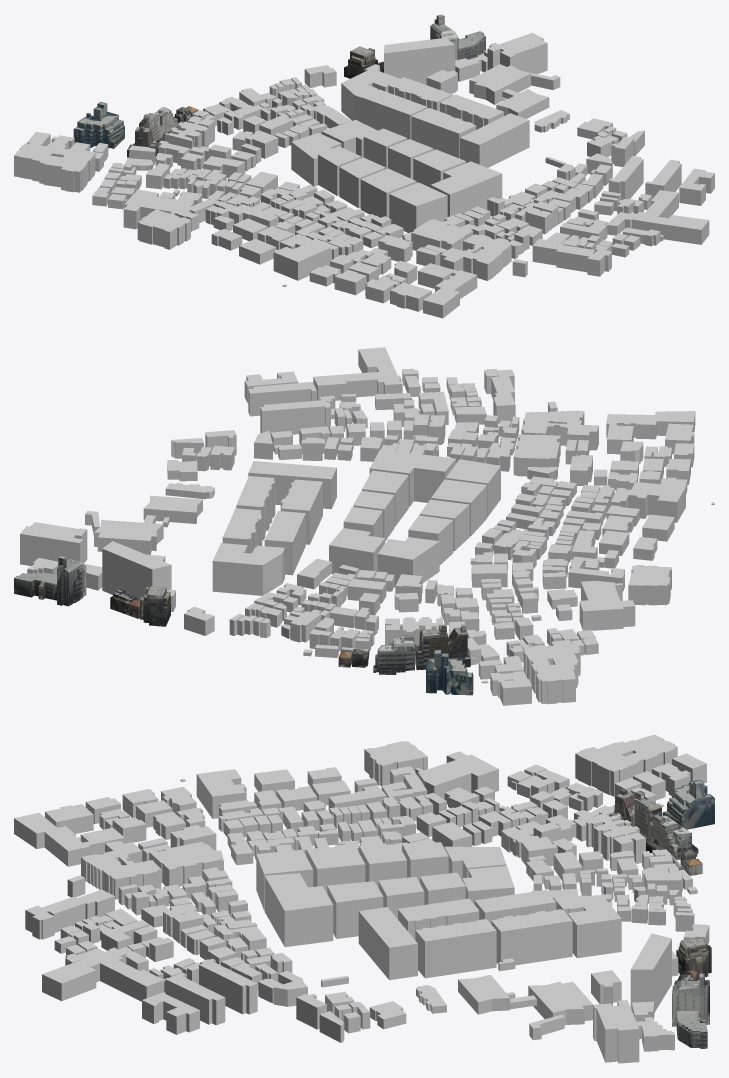
Rendered from building_-1_2.glb.
3 views of the same model, one above another, from view 1: azimuth 30°, elevation 25°; view 2: azimuth 150°, elevation 25°; view 3: azimuth 270°, elevation 25° (orthographic). The views are drawn at different scales.
Size of the model in its own units: 393 by 32.2 by 389.
Materials: 3 (2 with a texture image).
